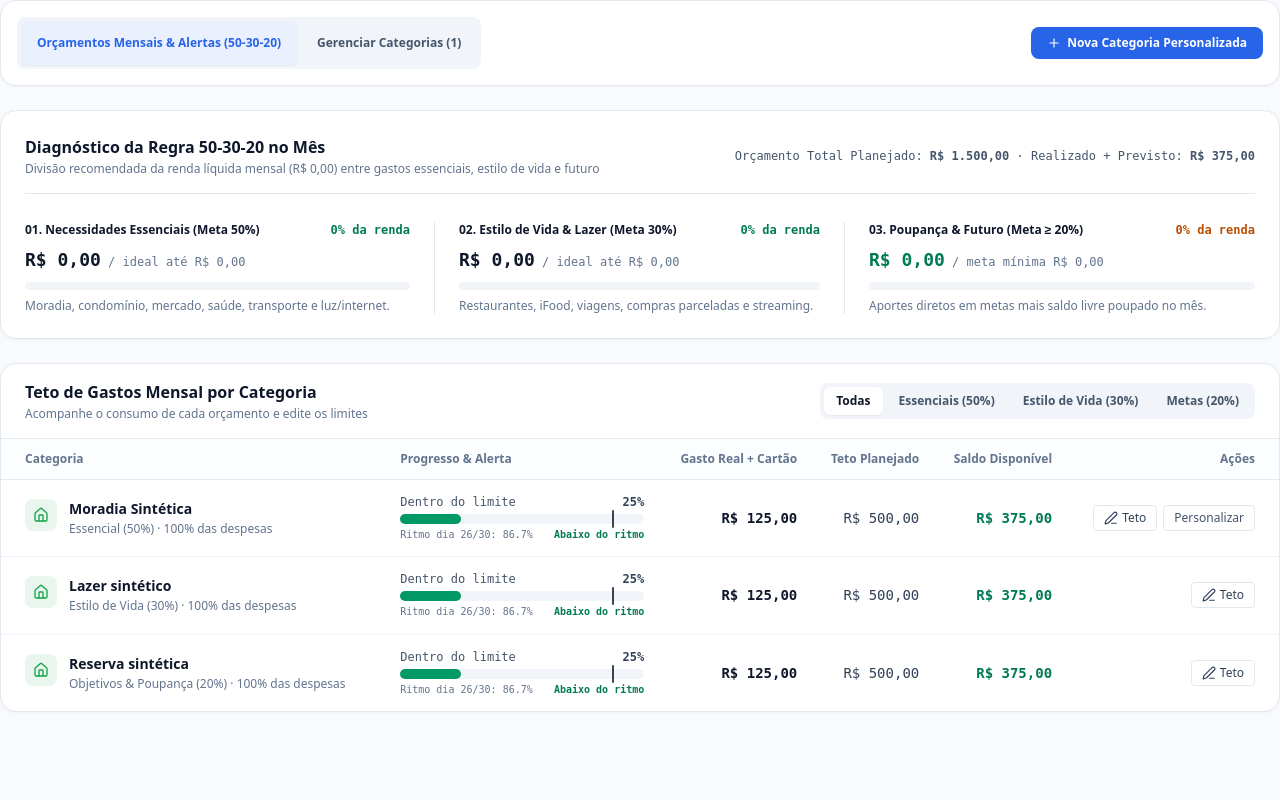
Test case: monthly budget bucket filters show only matching synthetic category rows
Click the button "Estilo de Vida (30%)" at (1081, 401), box [1011, 387, 1150, 415]
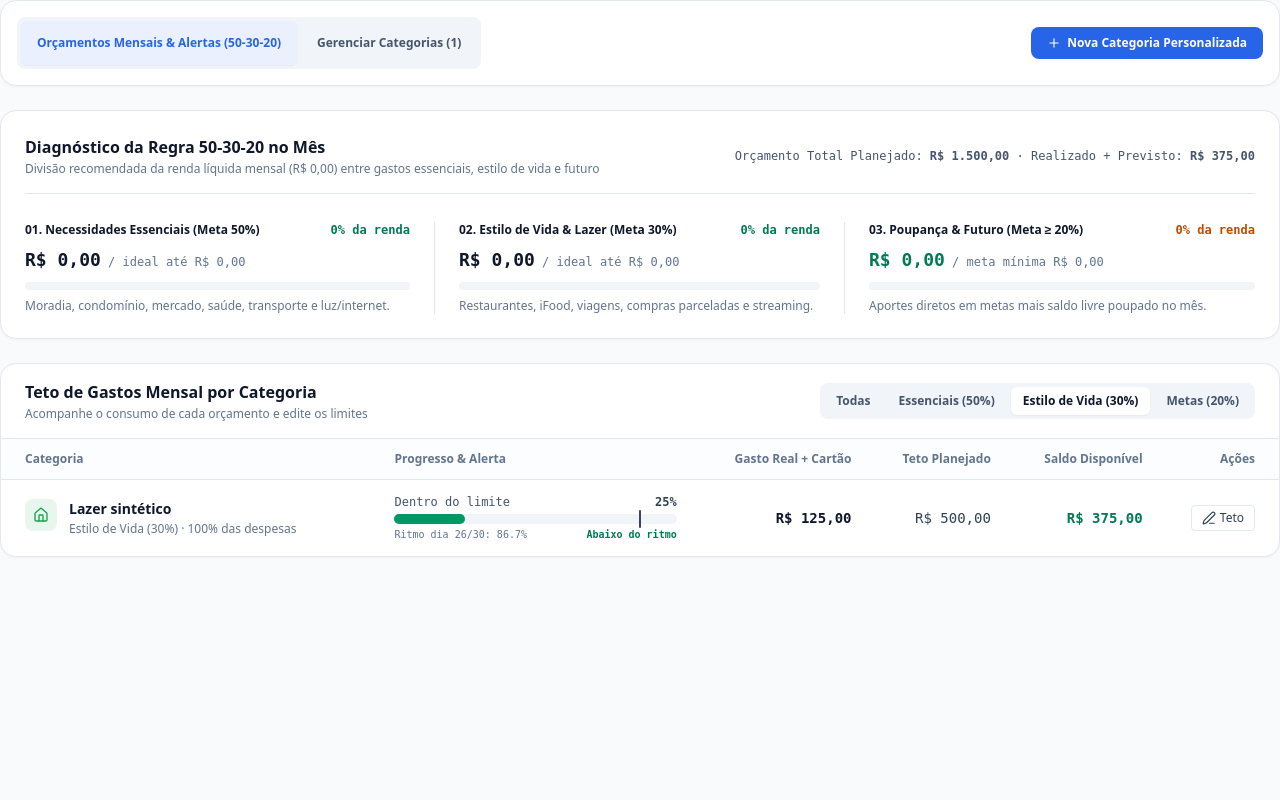
Check: the text "Lazer sintético" is shown, box [69, 499, 172, 518]
Check: the text "Moradia Sintética" is gone
Check: the text "Reserva sintética" is gone
Click the button "Todas" at (853, 401), box [824, 387, 883, 415]
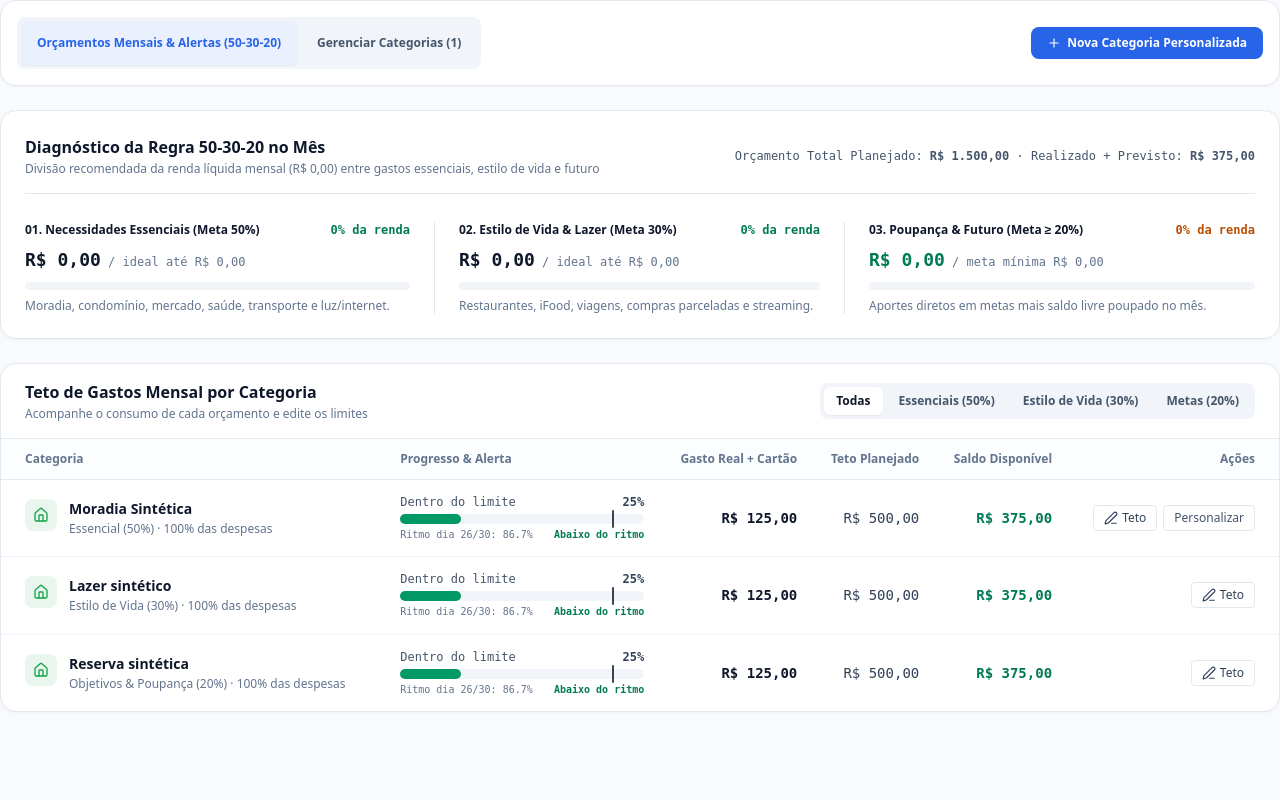
Check: the text "Lazer sintético" is shown, box [69, 576, 172, 595]
Check: the text "Moradia Sintética" is shown, box [69, 499, 192, 518]
Check: the text "Reserva sintética" is shown, box [69, 654, 189, 673]
